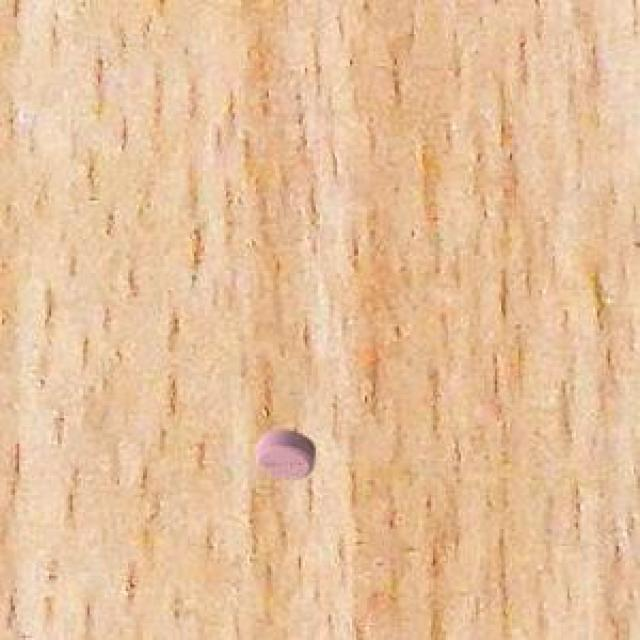Kremil_S: (247, 426, 327, 496)
